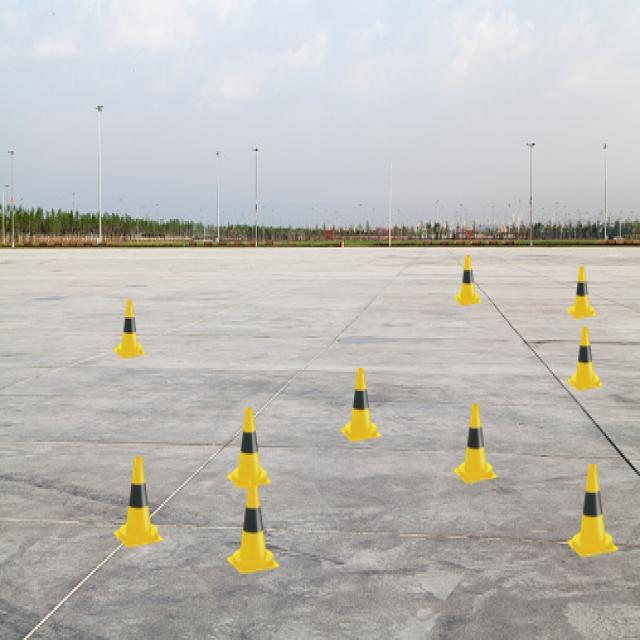yellow_cone: (227, 479, 280, 574), (567, 464, 619, 557), (113, 457, 164, 547), (227, 408, 272, 489), (453, 404, 498, 483), (340, 368, 382, 442), (567, 326, 603, 391), (114, 300, 146, 359), (567, 266, 597, 319), (453, 255, 482, 306)
